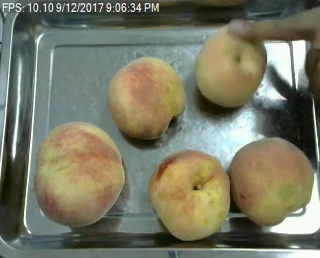Peach: (34, 121, 126, 228), (225, 137, 314, 227), (149, 146, 231, 241), (109, 56, 187, 140), (194, 23, 268, 107)
